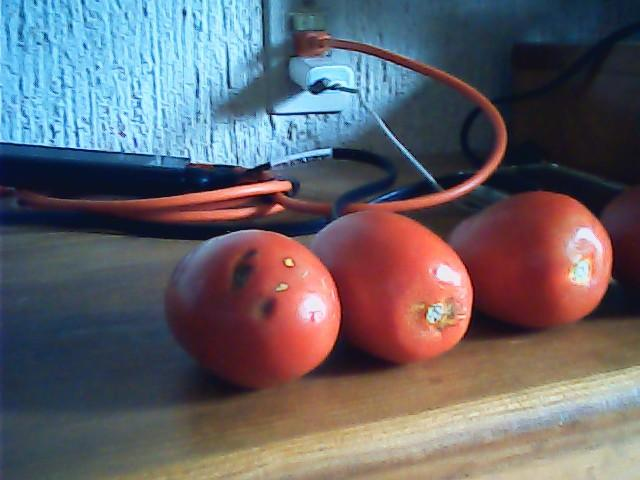defectuoso: (162, 230, 339, 383)
maduro: (301, 209, 473, 359), (451, 190, 613, 329)
